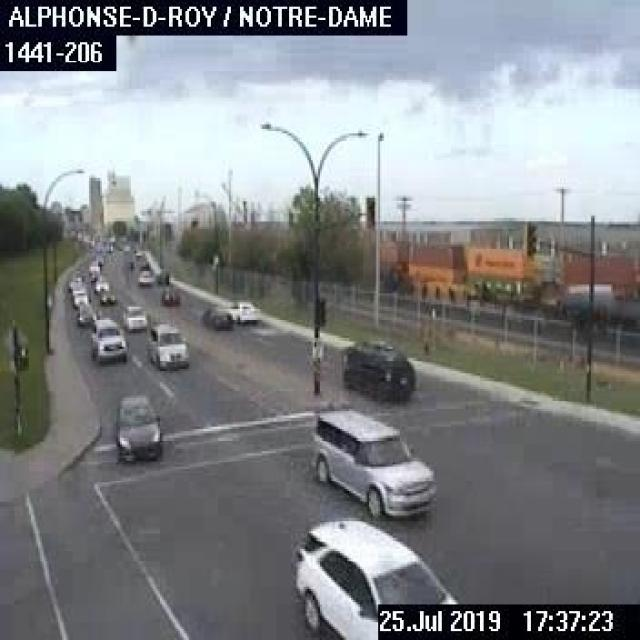vehicle: (285, 512, 460, 638), (310, 406, 440, 518), (335, 331, 418, 396), (113, 389, 165, 462), (144, 322, 186, 371), (89, 315, 128, 366), (227, 297, 259, 325), (200, 308, 235, 331), (122, 302, 148, 330), (73, 302, 96, 324), (157, 286, 180, 307), (71, 288, 89, 305), (136, 268, 152, 285), (93, 276, 109, 292), (99, 289, 115, 304), (156, 266, 168, 284)
